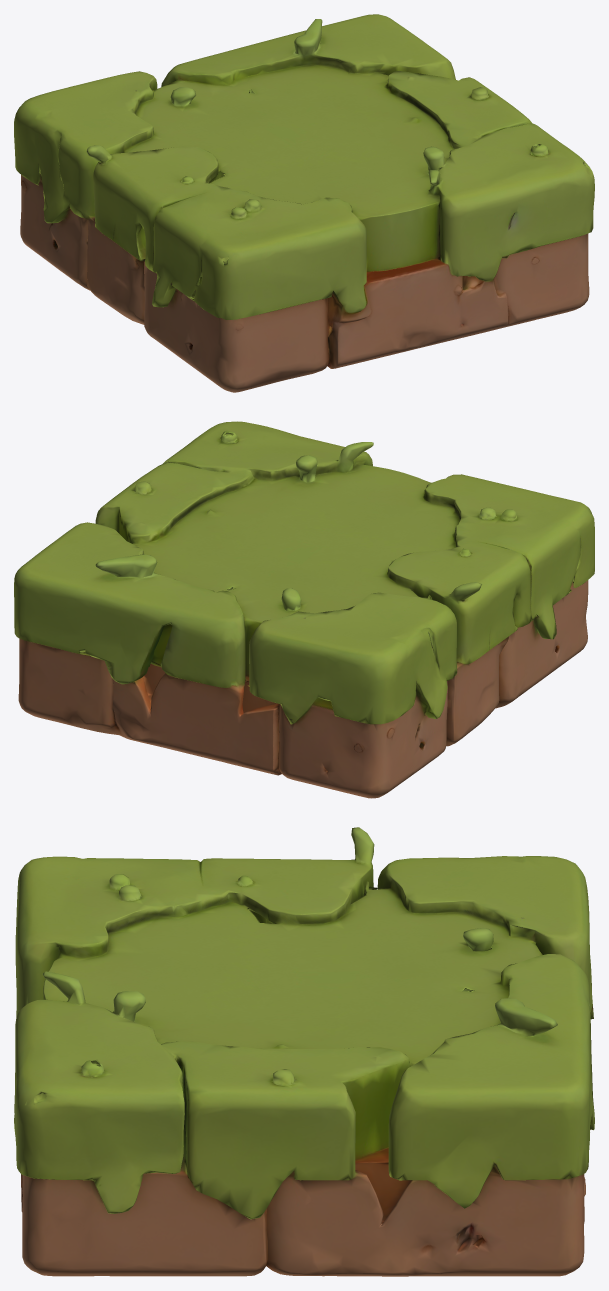
3 renders of one model, top to bottom at view 1: azimuth 30°, elevation 25°; view 2: azimuth 150°, elevation 25°; view 3: azimuth 270°, elevation 25°, orthographic. The views are drawn at different scales.
Parts seen in each view (by area): view 1: tripo_node_eb85b116-fba8-43cb-a532-05c6475b4564; view 2: tripo_node_eb85b116-fba8-43cb-a532-05c6475b4564; view 3: tripo_node_eb85b116-fba8-43cb-a532-05c6475b4564.
Part boxes in pixels (x1,y1,x2,y2): tripo_node_eb85b116-fba8-43cb-a532-05c6475b4564: (14,14,594,392); tripo_node_eb85b116-fba8-43cb-a532-05c6475b4564: (14,421,594,798); tripo_node_eb85b116-fba8-43cb-a532-05c6475b4564: (14,827,594,1276).
Size of the model in its own units: 1 by 0.424 by 0.9645.
1 material, 1 textured.
